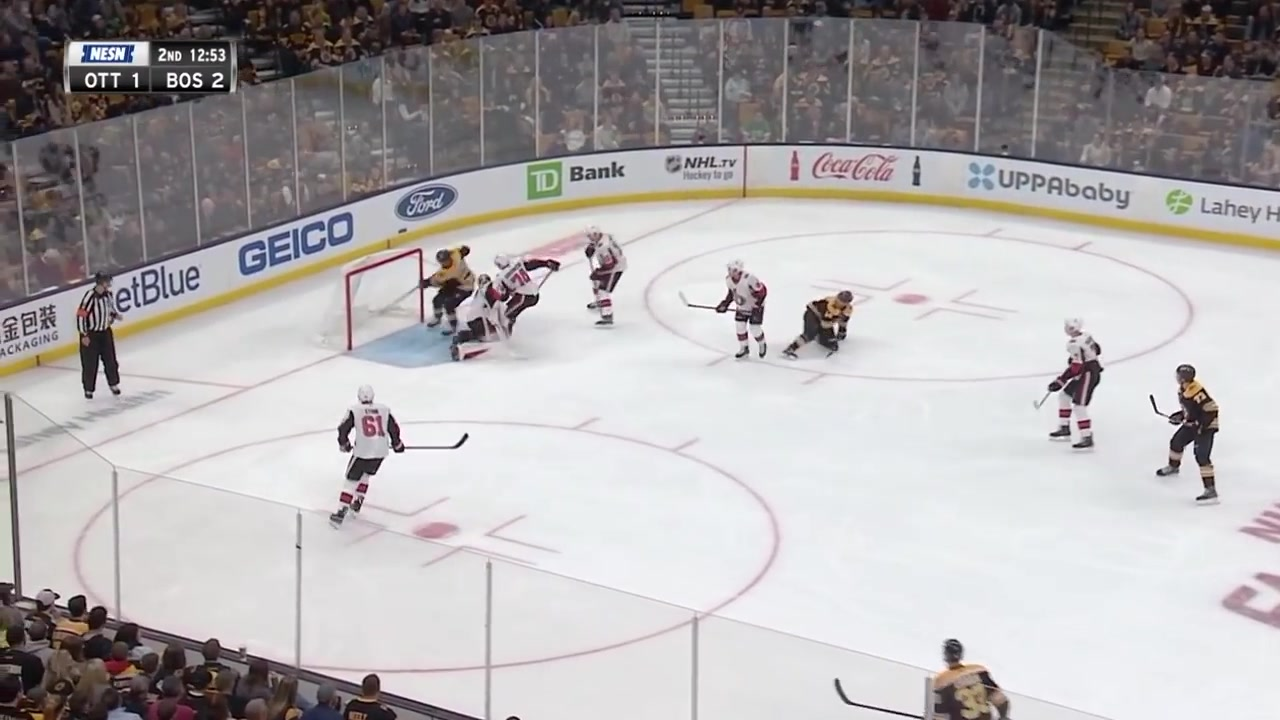Geico: (230, 213, 363, 284)
